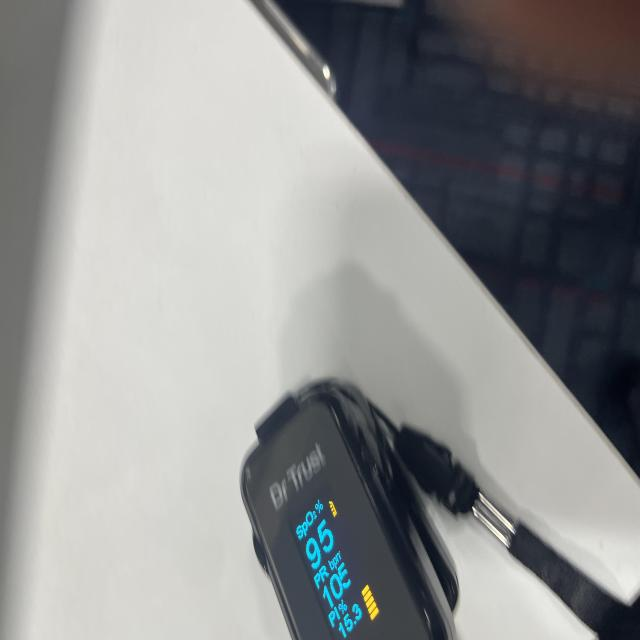spo2: (239, 381, 458, 640)
